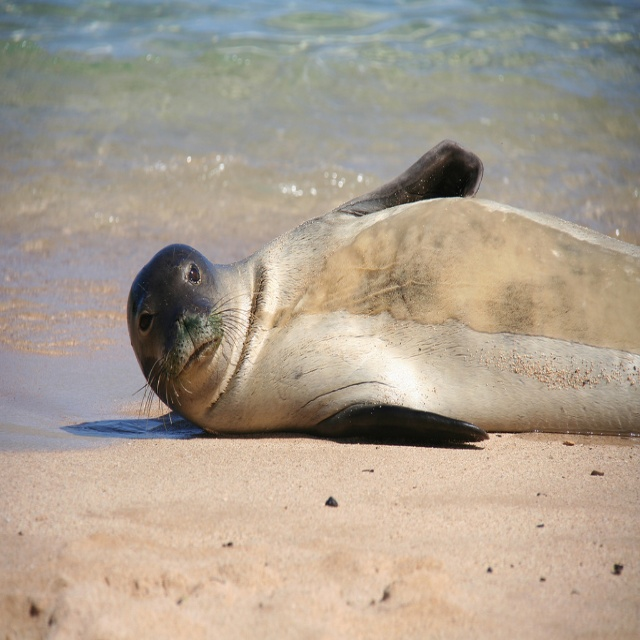Harbor seal: (128, 137, 640, 442)
